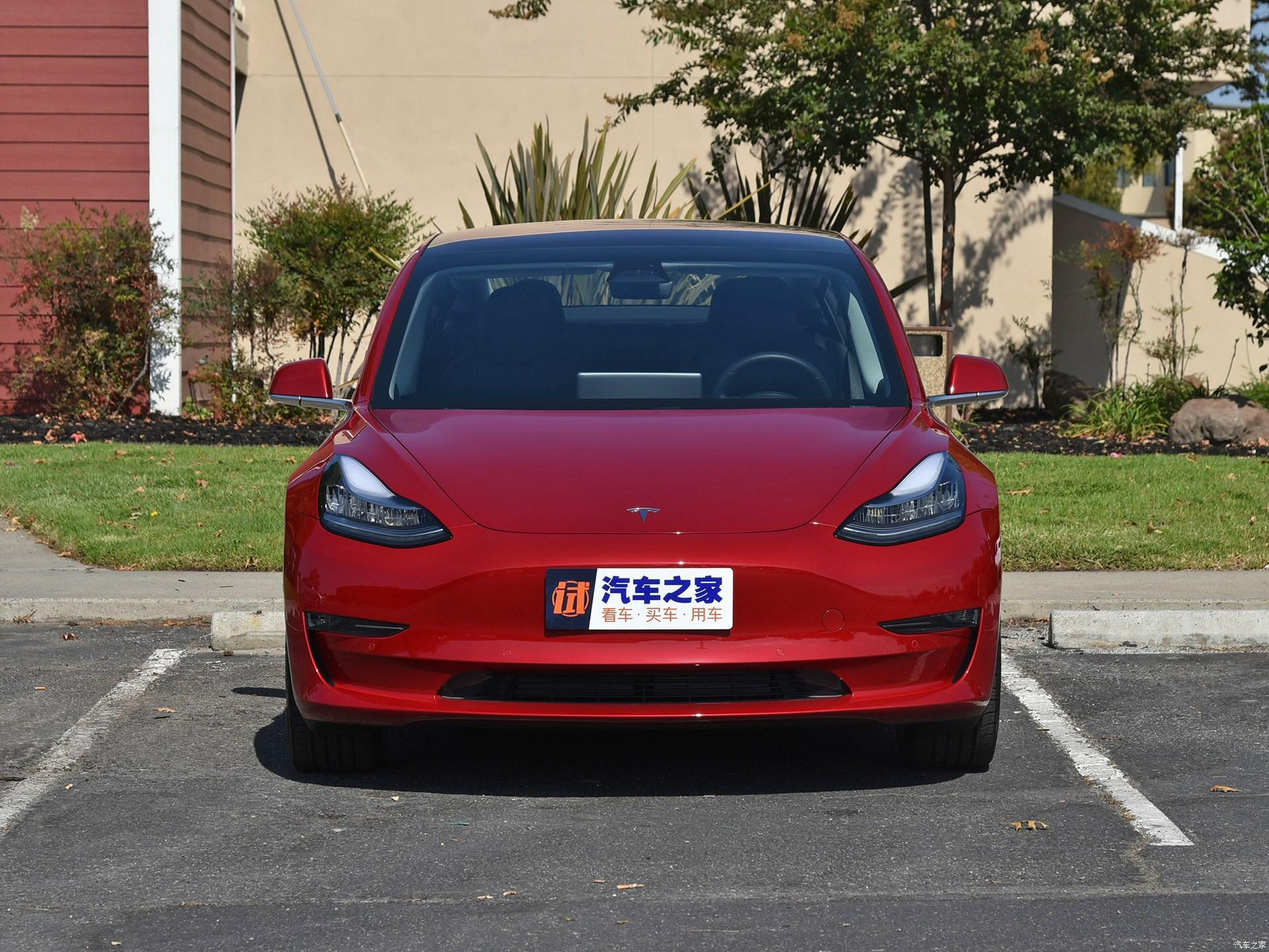Tesla: (627, 507, 662, 523)
